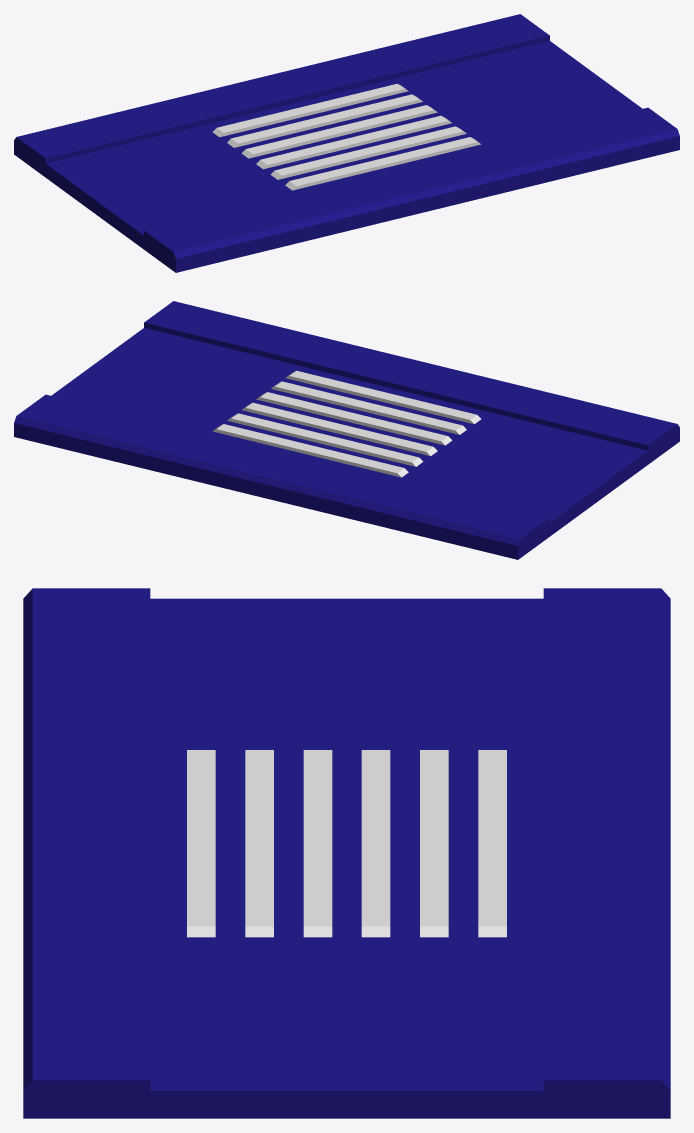
Rendered from Road_zebra.fbx.
3 views of the same model, one above another, from view 1: azimuth 30°, elevation 25°; view 2: azimuth 150°, elevation 25°; view 3: azimuth 270°, elevation 25° (orthographic). The views are drawn at different scales.
Parts seen in each view (by area): view 1: Road_part.001; view 2: Road_part.001; view 3: Road_part.001.
Part boxes in pixels (x1,y1,x2,y2): Road_part.001: (14,14,679,272); Road_part.001: (14,301,679,559); Road_part.001: (23,588,670,1118).
Size of the model in its own units: 200 by 7.28 by 111.
